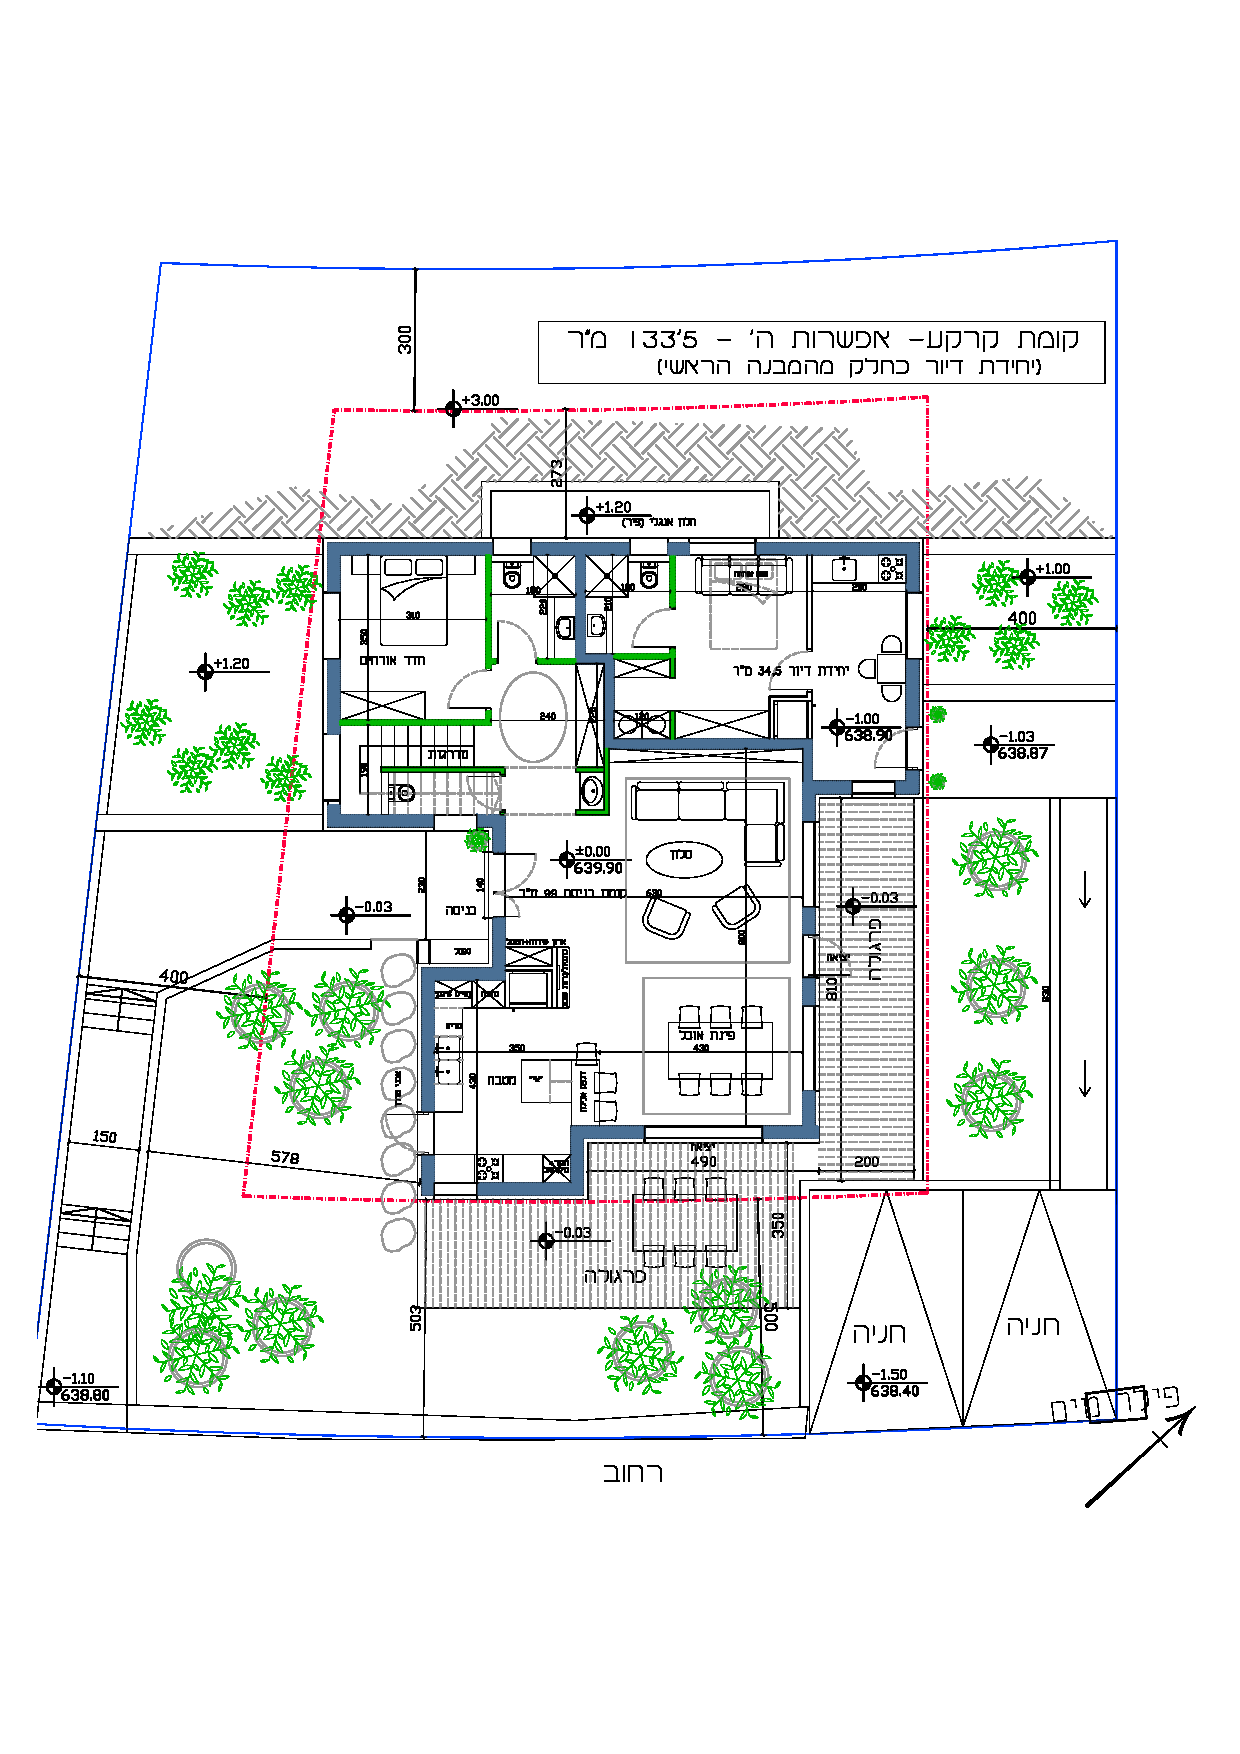door: (439, 664, 480, 711), (625, 604, 664, 650), (495, 615, 537, 652), (510, 845, 539, 884)
wall: (607, 735, 812, 747), (758, 539, 921, 554), (421, 968, 437, 1111), (329, 542, 491, 556), (574, 544, 586, 663), (327, 815, 433, 828), (533, 542, 629, 556), (478, 1182, 581, 1193), (327, 659, 340, 731), (572, 1126, 643, 1137), (493, 917, 505, 978), (804, 741, 813, 819), (425, 969, 502, 978), (765, 1125, 815, 1138), (604, 656, 612, 734), (342, 719, 484, 723), (486, 557, 491, 662), (804, 781, 848, 793)
